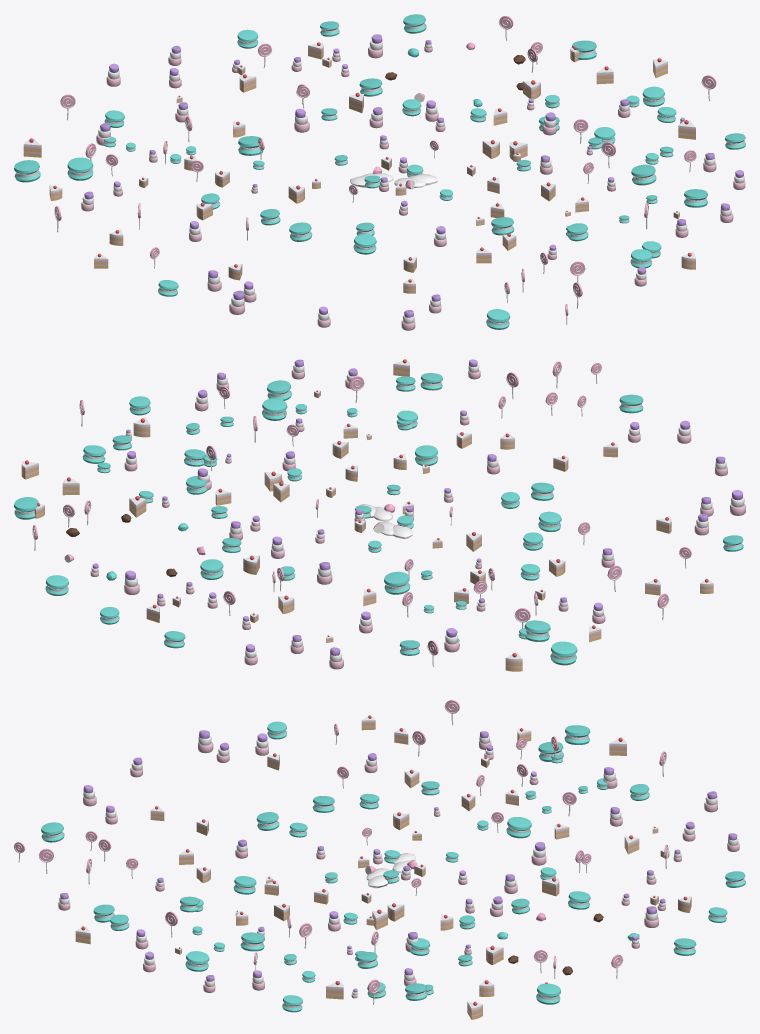
File: CandyForest_GameplayProps.fbx
The picture shows the model from 3 angles, top to bottom: view 1: azimuth 30°, elevation 25°; view 2: azimuth 150°, elevation 25°; view 3: azimuth 270°, elevation 25°; orthographic projection. The views are drawn at different scales.
Parts seen in each view (by area): view 1: CAN_Macaron_Rock_61; view 2: CAN_Macaron_Rock_83, CAN_Macaron_Rock_91; view 3: no part large enough to name.
Part boxes in pixels (left/top/right/bottom): CAN_Macaron_Rock_61: left=67, top=157, right=93, bottom=180; CAN_Macaron_Rock_83: left=550, top=641, right=577, bottom=665; CAN_Macaron_Rock_91: left=384, top=571, right=410, bottom=594.
Bounding box in the file's own units: 284 × 18.15 × 294.
